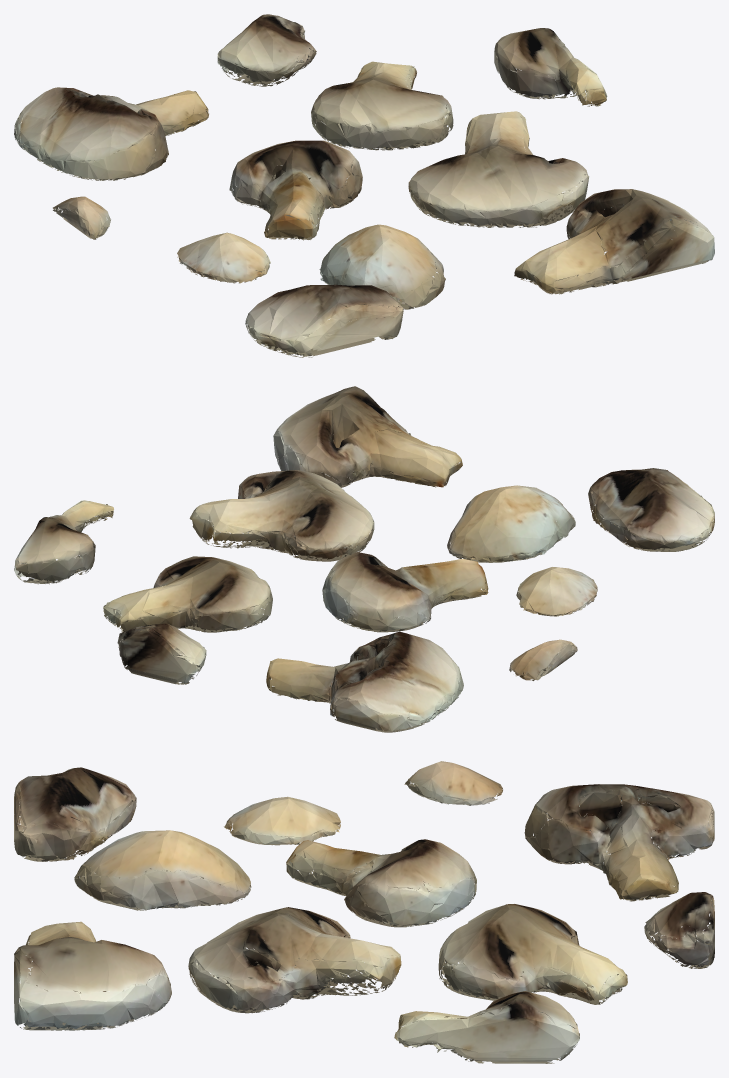
File: mushroom_decimate.fbx
3 views of the same model, one above another, from view 1: azimuth 30°, elevation 25°; view 2: azimuth 150°, elevation 25°; view 3: azimuth 270°, elevation 25° (orthographic). The views are drawn at different scales.
Visible parts, largest first — view 1: model_White Button Mushrooms_sliced_20200923_120523898; view 2: model_White Button Mushrooms_sliced_20200923_120523898; view 3: model_White Button Mushrooms_sliced_20200923_120523898.
Part boxes in pixels (box(x1,y1,x2,y2)): model_White Button Mushrooms_sliced_20200923_120523898: box(14, 14, 714, 357); model_White Button Mushrooms_sliced_20200923_120523898: box(14, 386, 714, 732); model_White Button Mushrooms_sliced_20200923_120523898: box(14, 761, 714, 1063).
Size of the model in its own units: 13945 by 1578 by 14758.
Materials: 1 (1 with a texture image).
